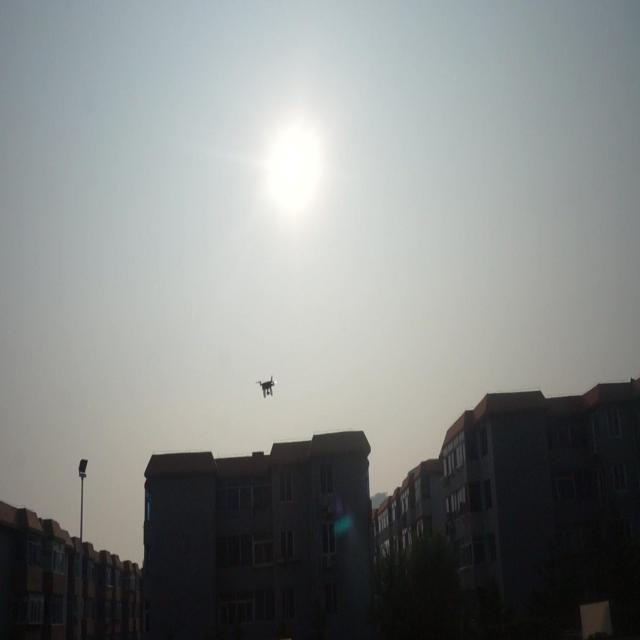UAV: (255, 375, 277, 398)
